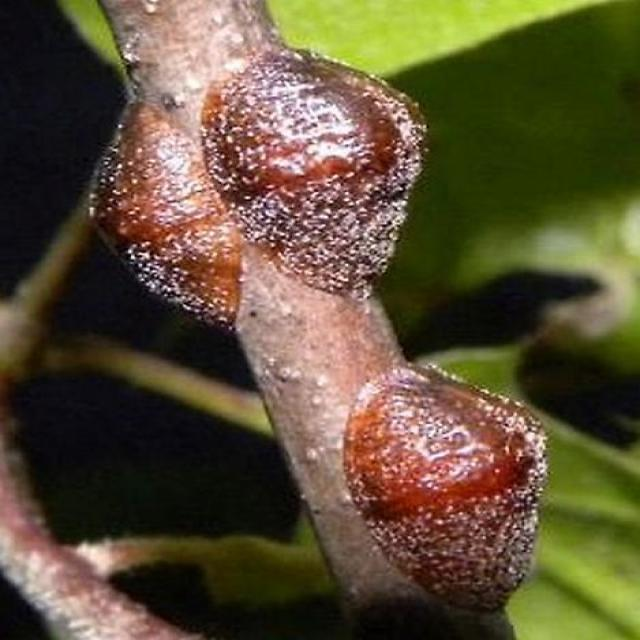Black Scale: (202, 48, 426, 297), (343, 362, 546, 611), (91, 99, 239, 325)
